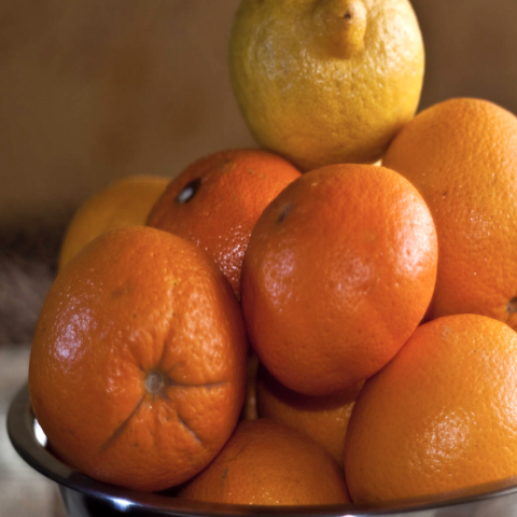orange: (17, 218, 252, 511), (221, 117, 443, 406)
